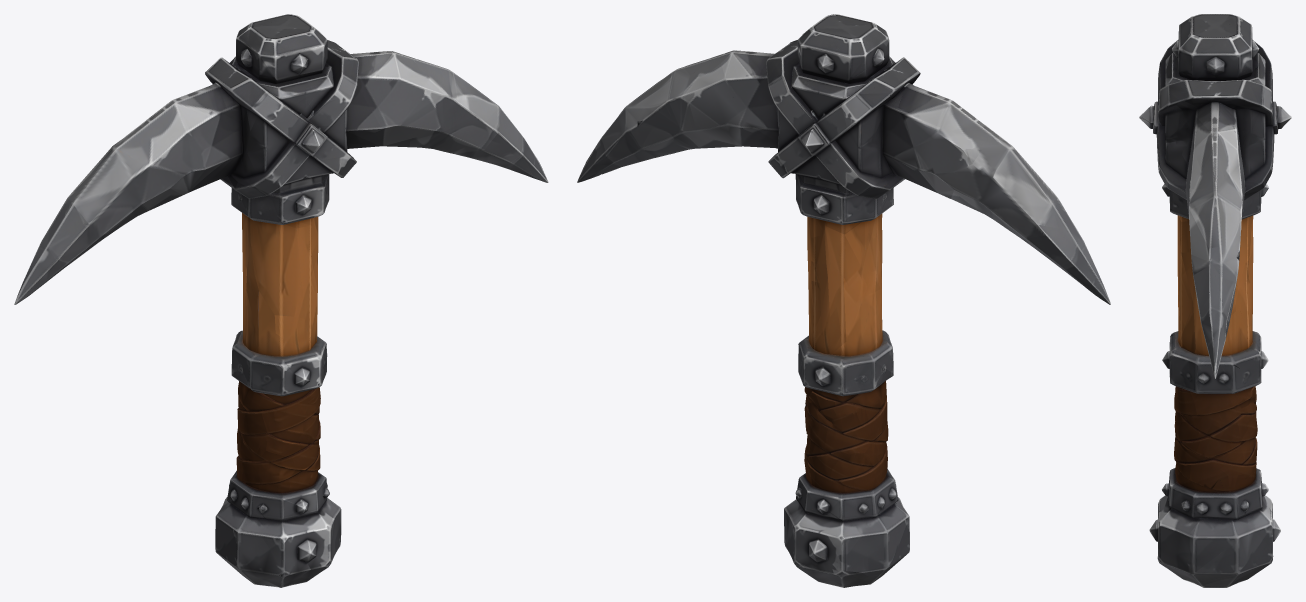
The model's file is Pickaxe_Iron.fbx.
The picture shows the model from 3 angles, left to right: view 1: azimuth 30°, elevation 25°; view 2: azimuth 150°, elevation 25°; view 3: azimuth 270°, elevation 25°; orthographic projection.
Visible parts, largest first — view 1: output_unwrapped; view 2: output_unwrapped; view 3: output_unwrapped.
Boxes of the visible parts, bbox=[...] form: output_unwrapped: bbox=[14, 14, 548, 587]; output_unwrapped: bbox=[577, 14, 1110, 587]; output_unwrapped: bbox=[1139, 14, 1291, 587].
Size of the model in its own units: 190 by 186 by 46.7.
Materials: 1 (1 with a texture image).
